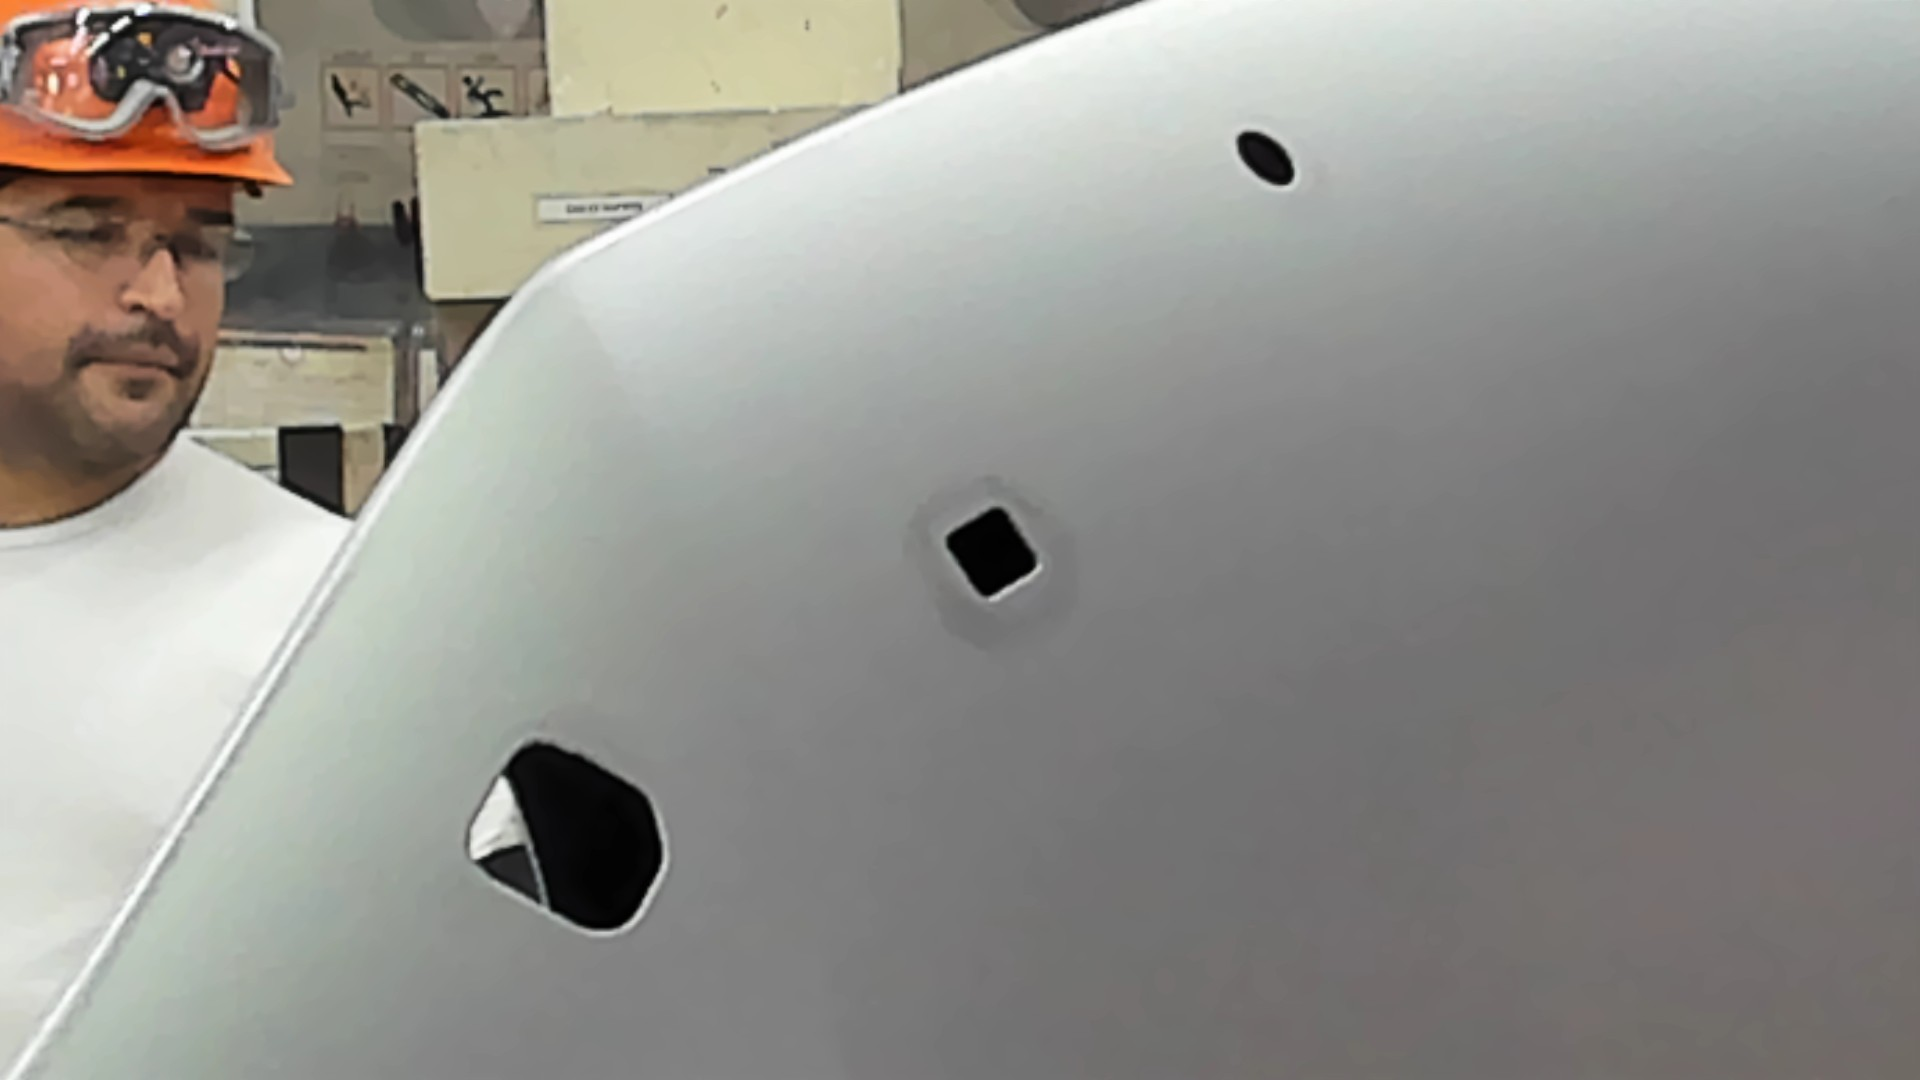capo: (1051, 193, 1920, 1080)
chico: (1229, 124, 1304, 193)
grande: (454, 724, 674, 942)
mediano: (938, 501, 1044, 604)
